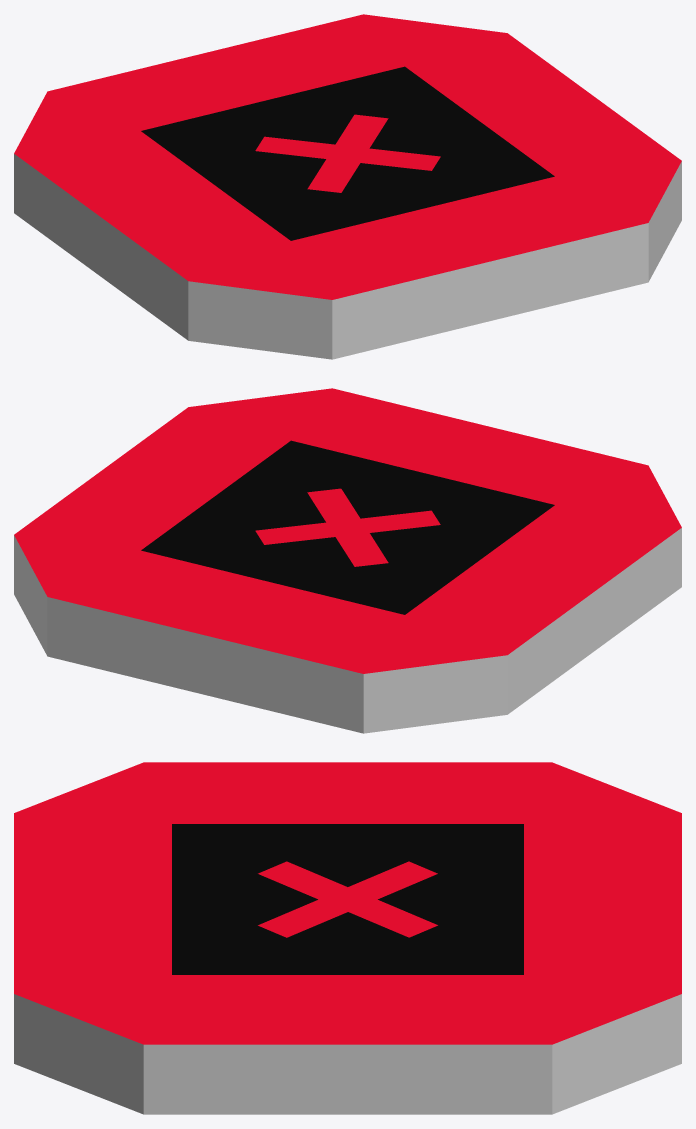
The model's file is prizeBox.glb.
3 renders of one model, top to bottom at view 1: azimuth 30°, elevation 25°; view 2: azimuth 150°, elevation 25°; view 3: azimuth 270°, elevation 25°, orthographic. The views are drawn at different scales.
Visible parts, largest first — view 1: prize, icon; view 2: prize, icon; view 3: prize, icon.
Boxes of the visible parts, <box> form: prize: <box>14,14,681,359</box>; icon: <box>141,66,554,240</box>; prize: <box>14,388,681,733</box>; icon: <box>141,440,554,614</box>; prize: <box>14,762,681,1114</box>; icon: <box>172,824,523,974</box>.
Size of the model in its own units: 4.29 by 0.5232 by 4.29.
